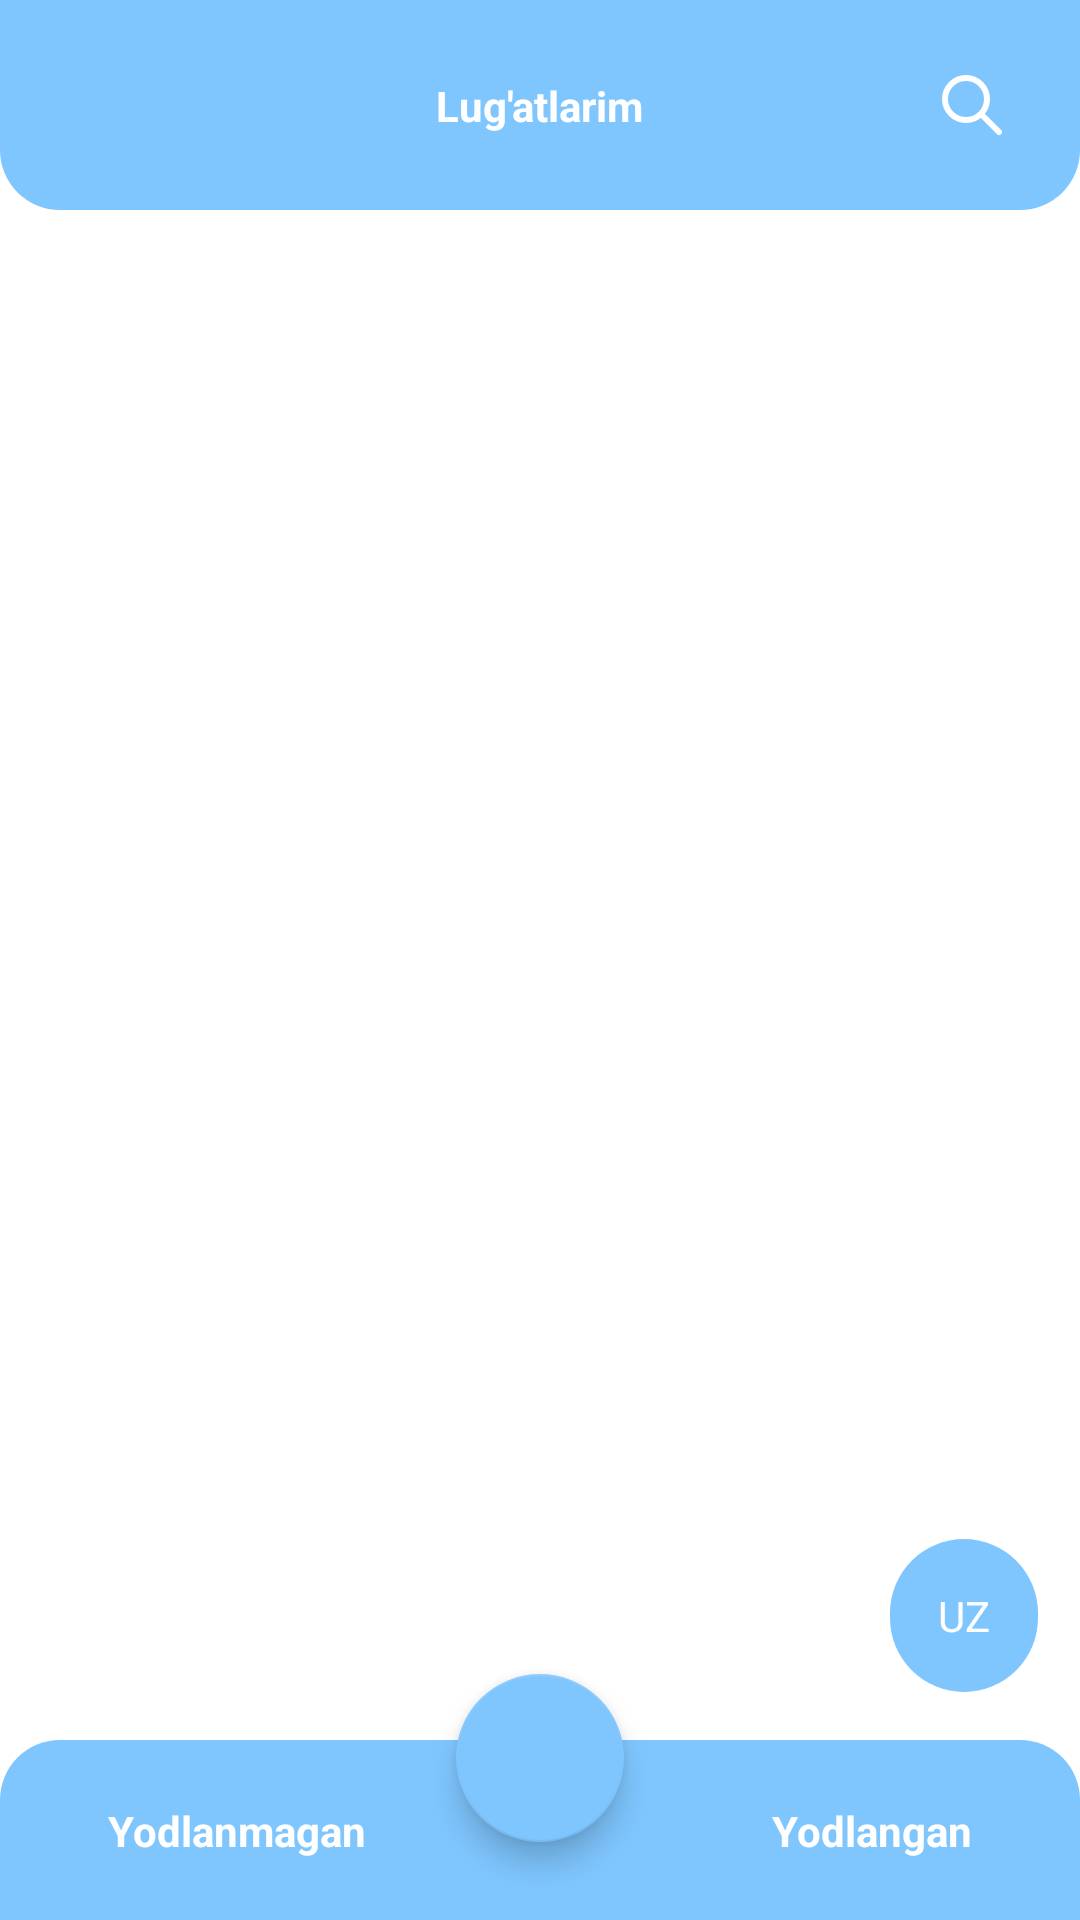

Named icons in this screenshot (1080x1920) and their bounding boxes, (x1, y1, x2, y2):
Search: (942, 75, 1002, 135)
